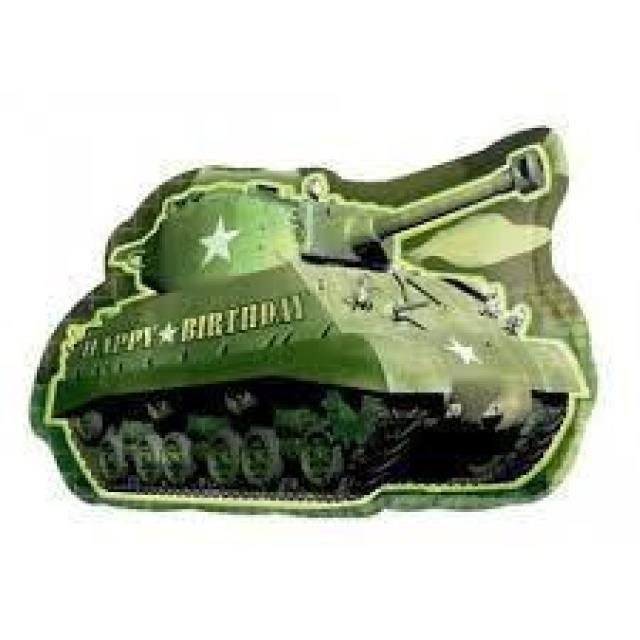Tanks: (30, 101, 601, 579)
